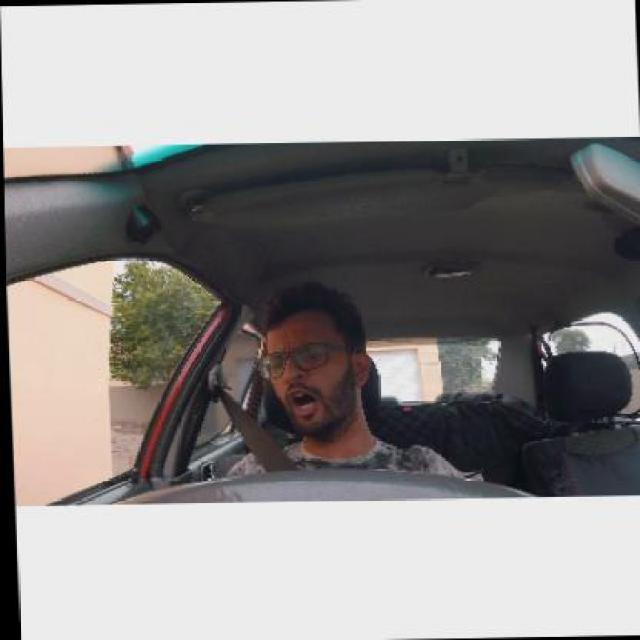drowsy: (246, 297, 374, 432)
